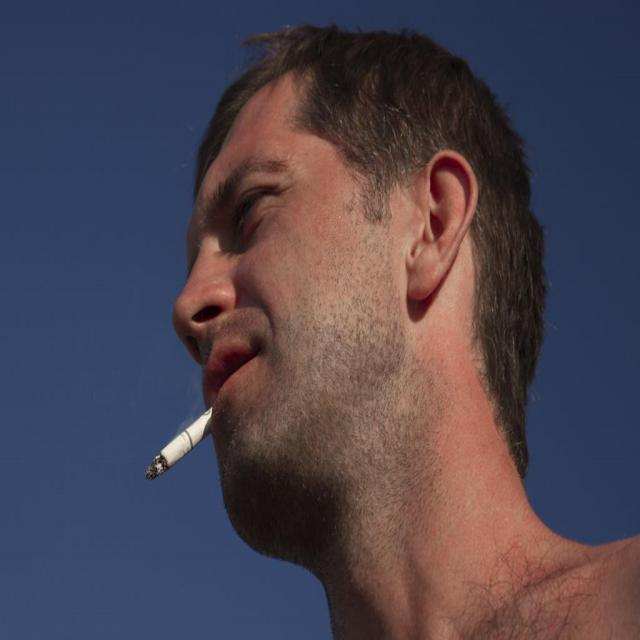Сигарета: (144, 405, 217, 481)
Тело: (176, 25, 640, 640)
